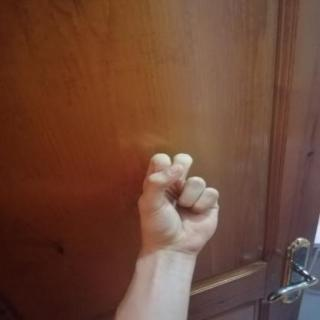QAAF: (125, 147, 232, 261)
